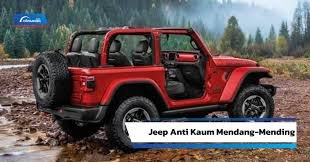mobil: (28, 28, 282, 123)
